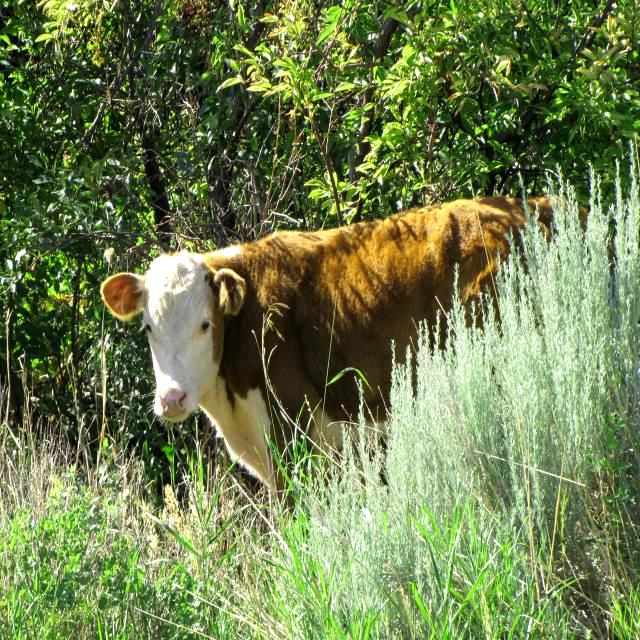COW: (101, 197, 526, 497)
